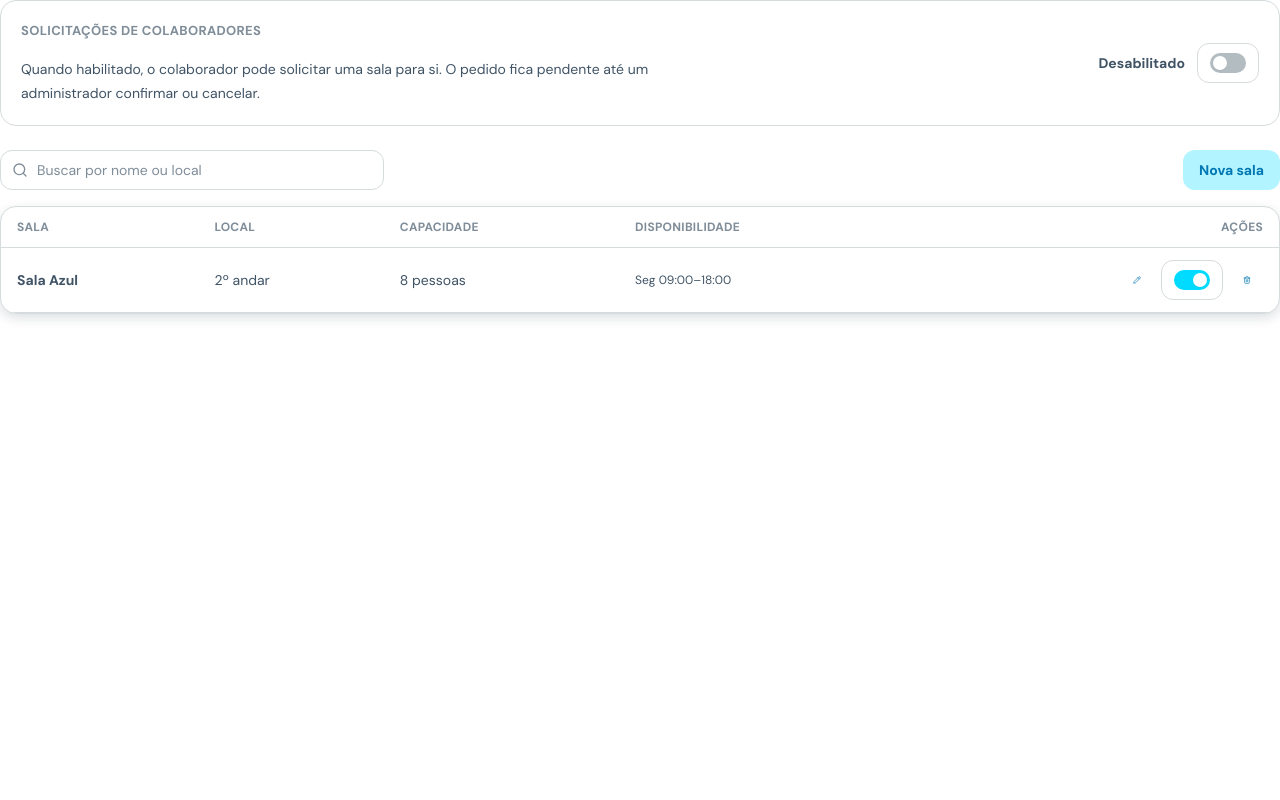
Test: SalasAdminPage › remove uma janela da grade
Click the button named "Editar Sala Azul" at (1137, 280), box x1=1121 y1=264 x2=1153 y2=296
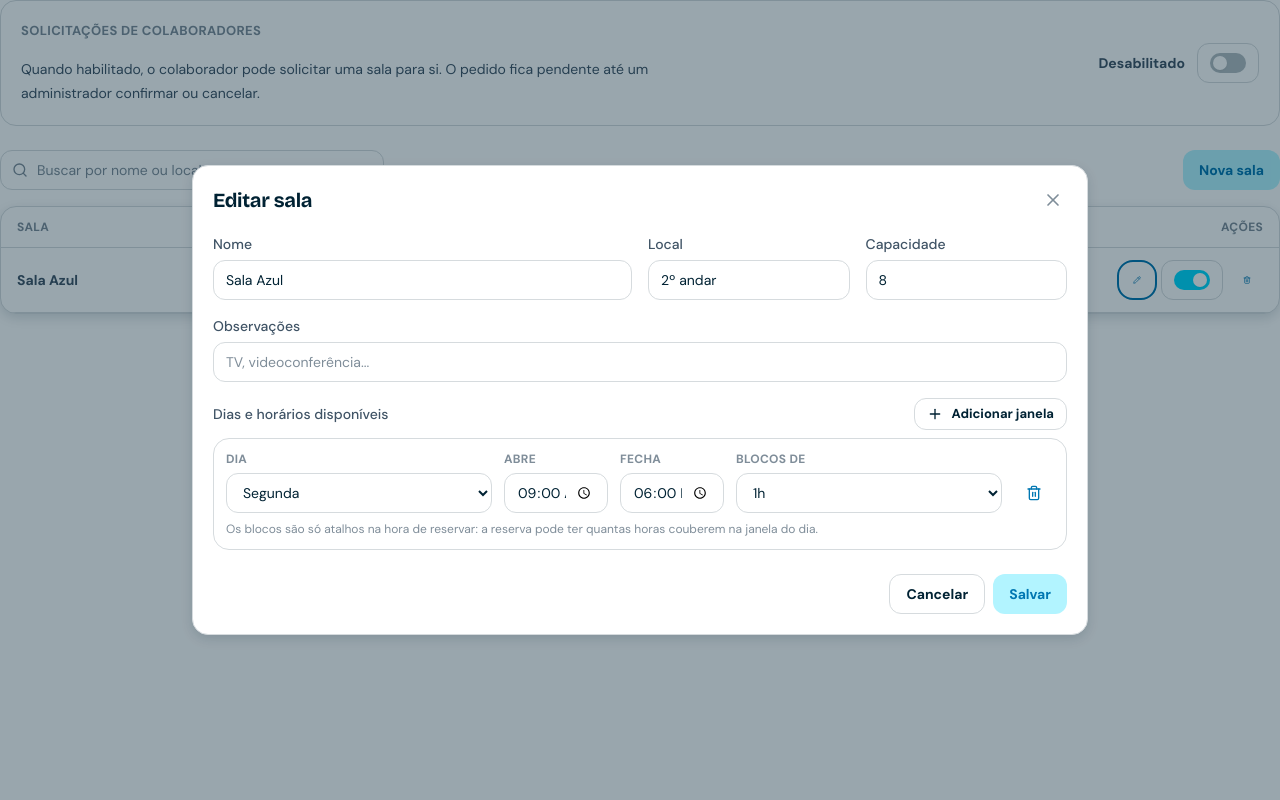
Click the button named "Remover janela de Segunda" at (1034, 493), box x1=1014 y1=477 x2=1054 y2=509
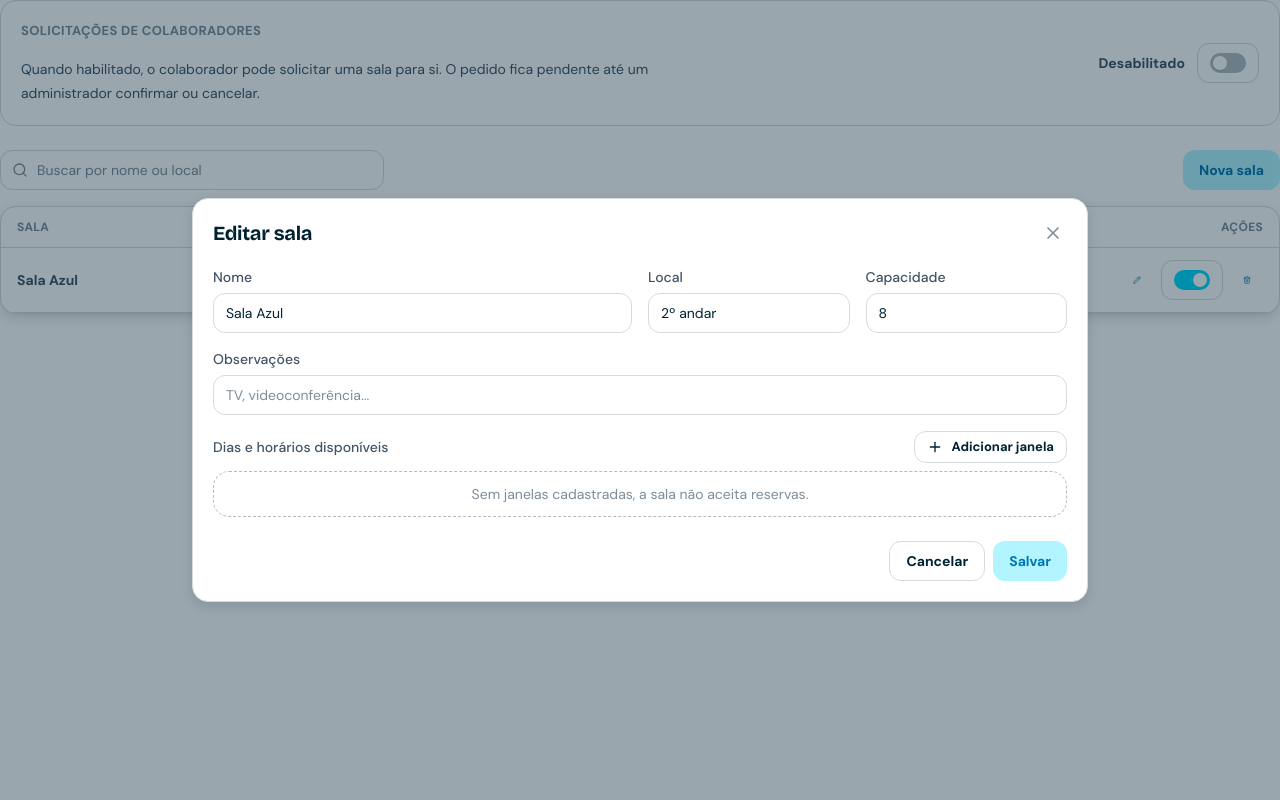
Result: the text "Sem janelas cadastradas, a sala não aceita reservas." is shown at x1=213 y1=471 x2=1067 y2=517
